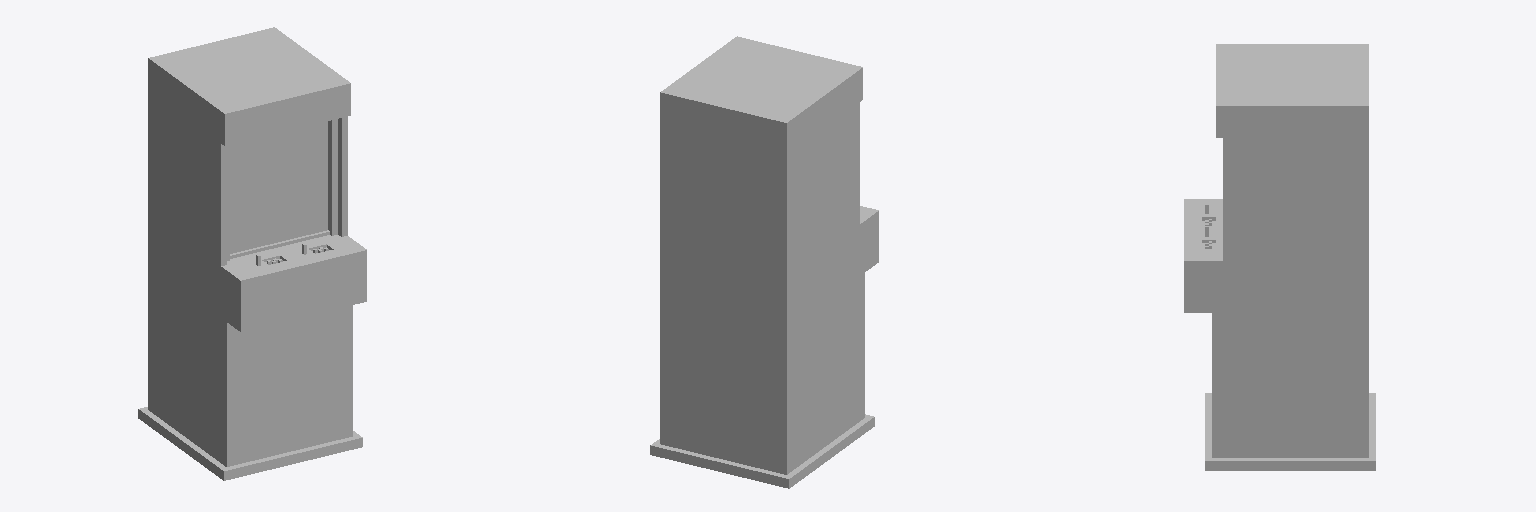
Rendered from tron cabinet obj.obj.
The picture shows the model from 3 angles: view 1: azimuth 30°, elevation 25°; view 2: azimuth 150°, elevation 25°; view 3: azimuth 270°, elevation 25°; orthographic projection.
Parts seen in each view (by area): view 1: object 1; view 2: object 1; view 3: object 1.
Boxes of the visible parts, x1=… form: object 1: x1=138, y1=27, x2=366, y2=480; object 1: x1=650, y1=36, x2=878, y2=488; object 1: x1=1184, y1=44, x2=1375, y2=470.
Size of the model in its own units: 4.5 by 11.2 by 5.4.